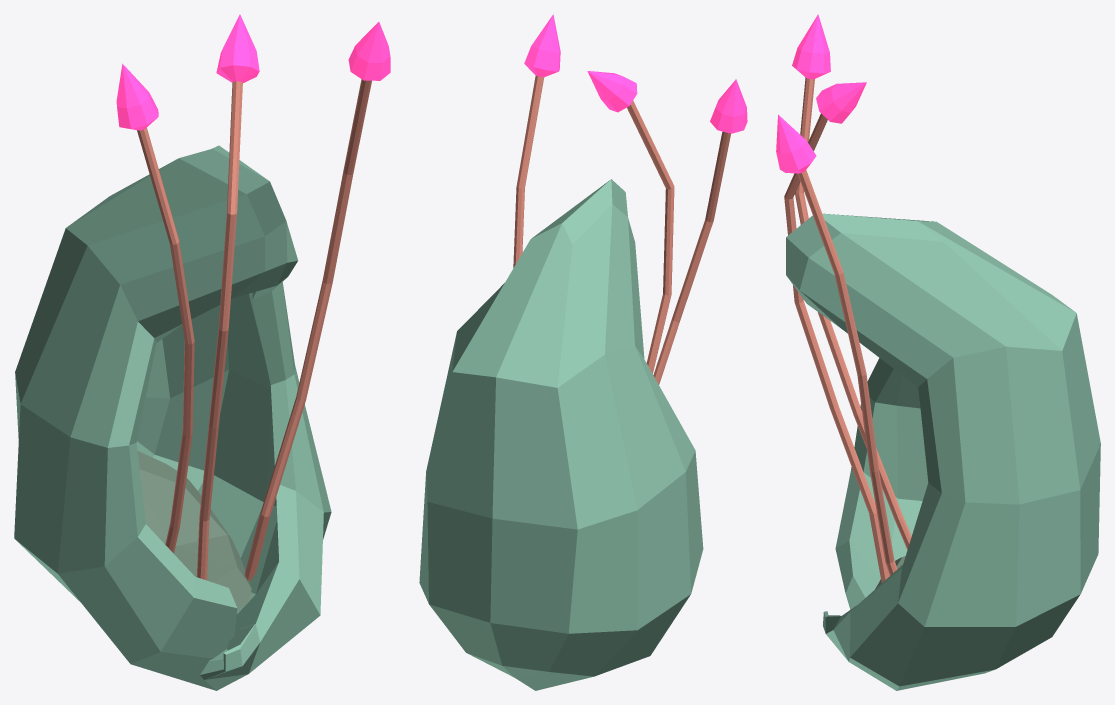
Rendered from Plant_14_Var_02.fbx.
3 renders of one model, left to right at view 1: azimuth 30°, elevation 25°; view 2: azimuth 150°, elevation 25°; view 3: azimuth 270°, elevation 25°, orthographic. The views are drawn at different scales.
Visible parts, largest first — view 1: Plant_14_Var_02; view 2: Plant_14_Var_02; view 3: Plant_14_Var_02.
Part boxes in pixels (x1,y1,x2,y2): Plant_14_Var_02: [14, 14, 390, 690]; Plant_14_Var_02: [419, 14, 747, 690]; Plant_14_Var_02: [776, 14, 1100, 690].
Bounding box in the file's own units: 0.4185 × 0.8792 × 0.3656.
